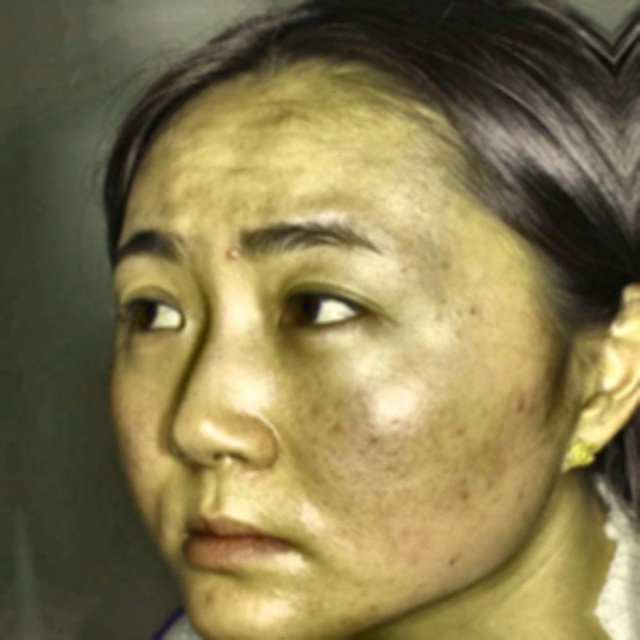comedone: (500, 388, 552, 415), (217, 241, 252, 270)
